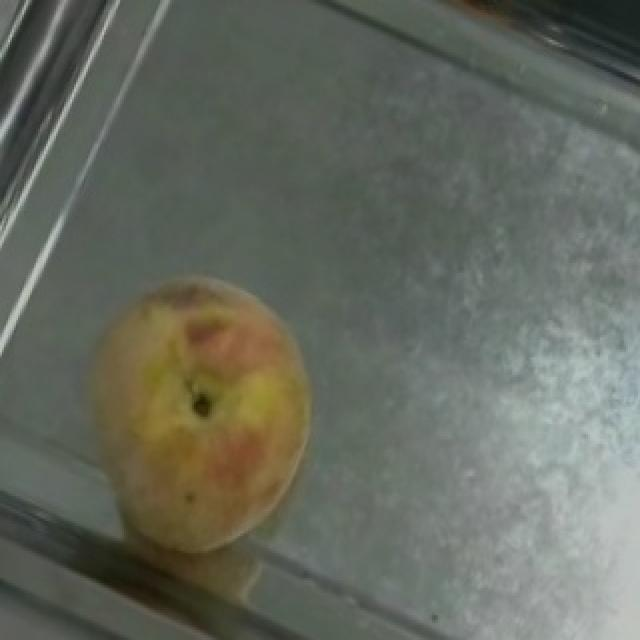Fruit: (38, 231, 366, 590)
